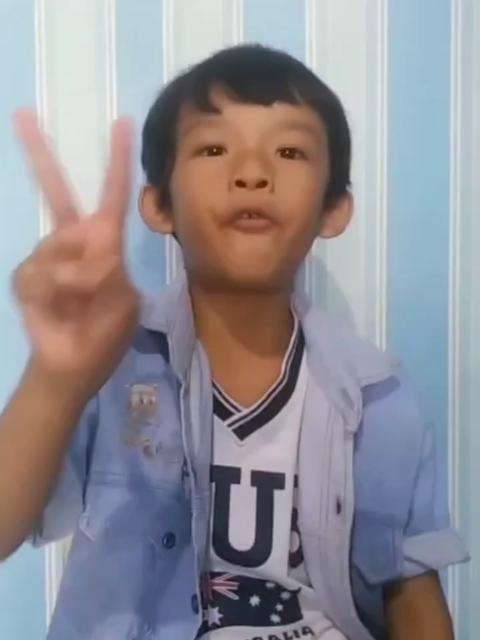V: (2, 108, 154, 388)
